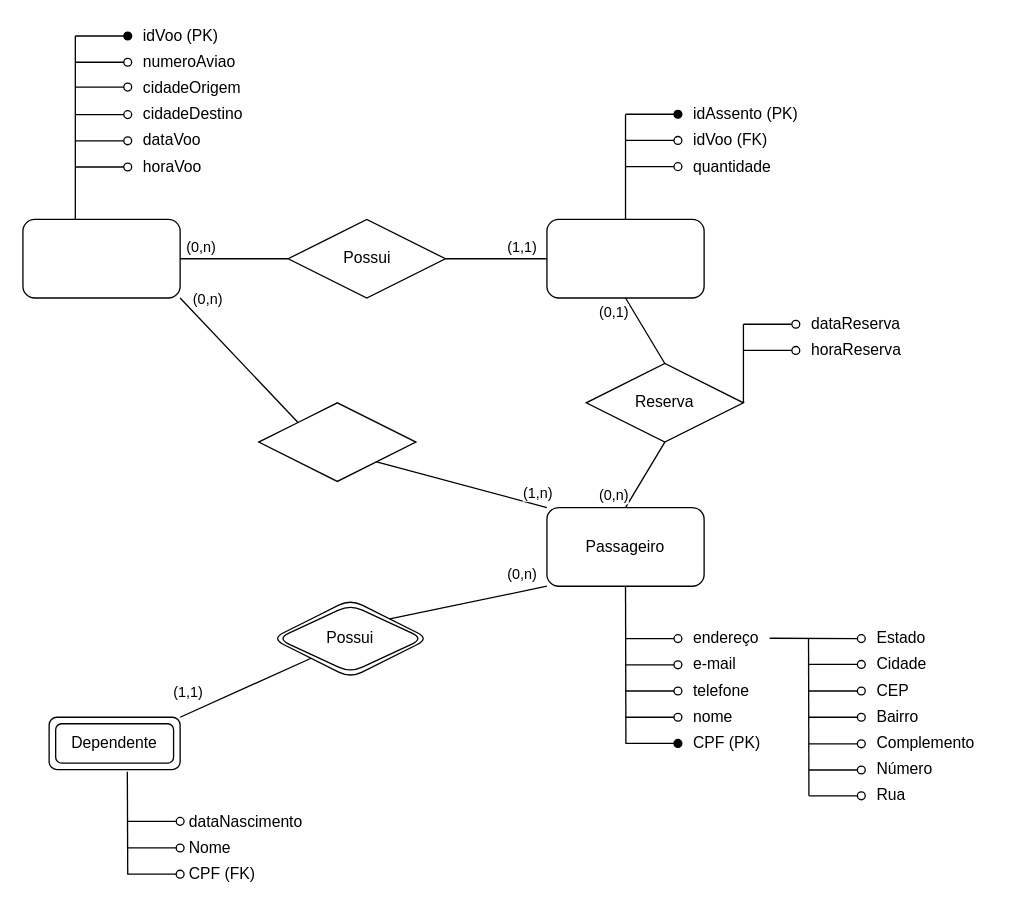
Some shapes in this 1028 by 909 pixel diagram are drawn without their labels. The shapes that lost their labels are listed below. From the top down, each one's box as (x1, y1, x2, y2) in pixels, then its label:
(22, 218, 180, 298): Voo
(546, 218, 704, 298): Assento
(257, 402, 416, 481): Tem
